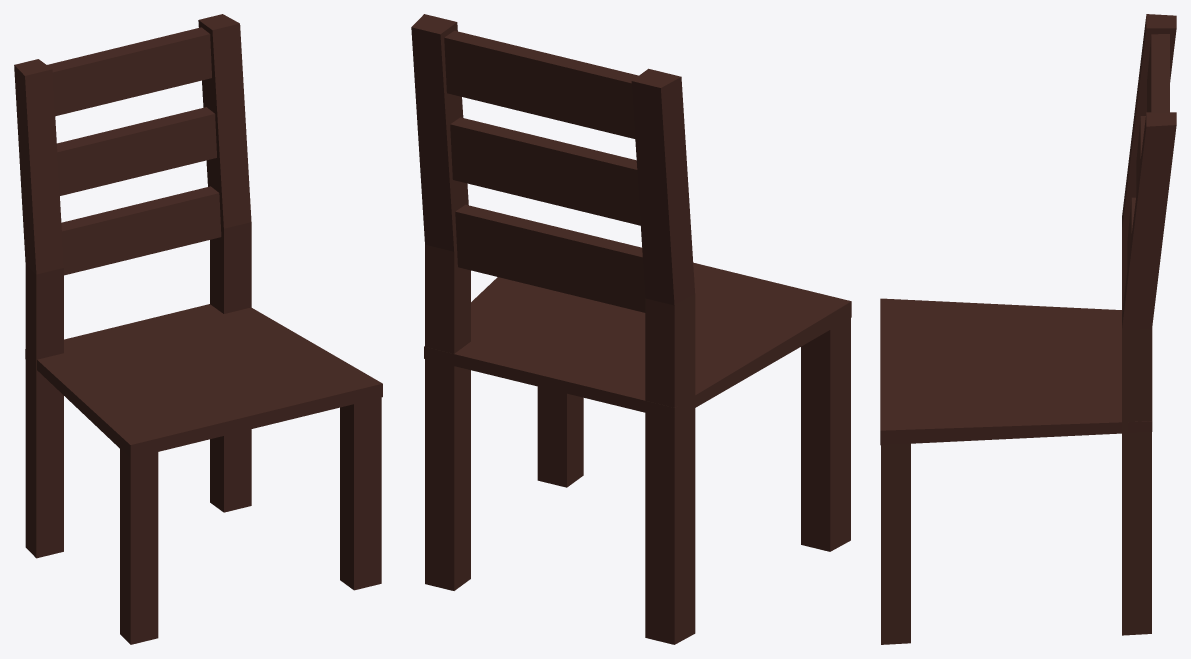
The model's file is Chair by CreativeTrio - RQZxIYo4Io.glb.
3 renders of one model, left to right at view 1: azimuth 30°, elevation 25°; view 2: azimuth 150°, elevation 25°; view 3: azimuth 270°, elevation 25°, orthographic. The views are drawn at different scales.
Parts seen in each view (by area): view 1: Chair; view 2: Chair; view 3: Chair.
Part boxes in pixels (x1,y1,x2,y2): Chair: [14, 14, 382, 644]; Chair: [411, 14, 851, 644]; Chair: [880, 14, 1176, 644].
Bounding box in the file's own units: 0.3514 × 0.6308 × 0.3328.
1 material, 1 textured.
